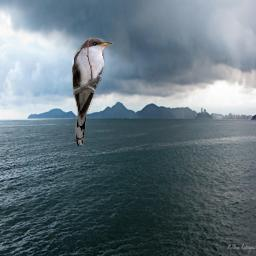Cuckoo: (71, 37, 113, 146)
